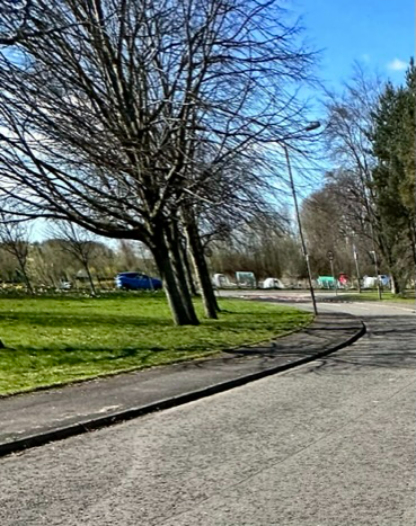car: (112, 264, 174, 299)
tree: (0, 0, 311, 311), (327, 58, 408, 287)
